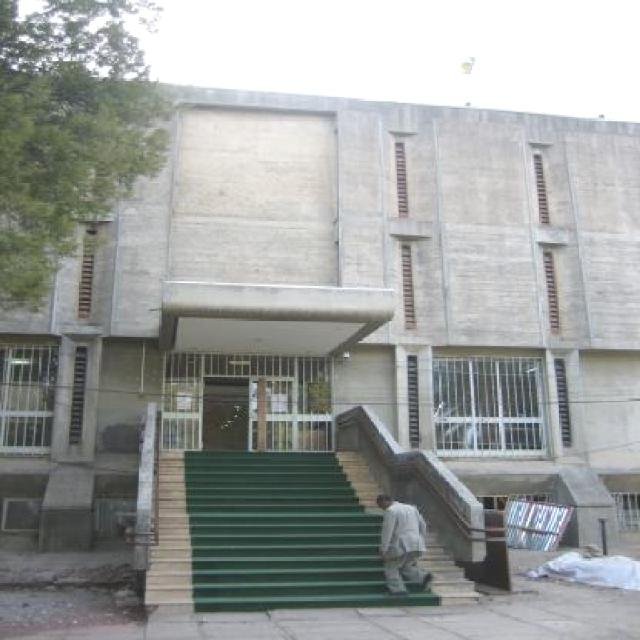stair: (144, 452, 480, 616)
